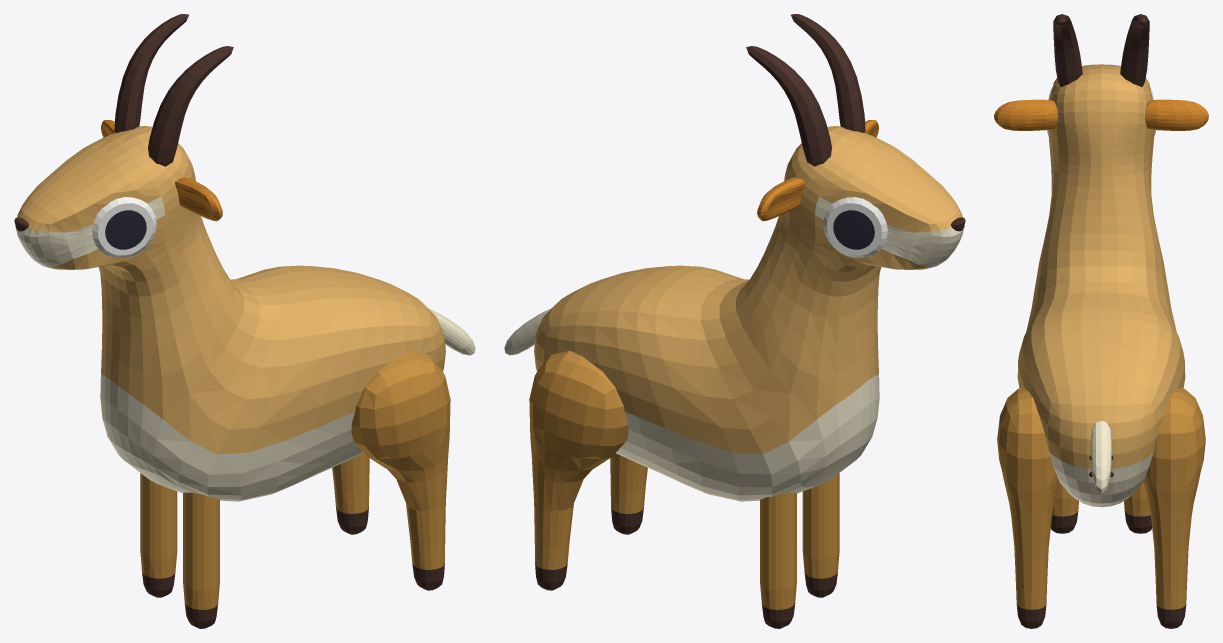
File: Gazelle_LOD0.fbx
3 views of the same model, side by side, from view 1: azimuth 30°, elevation 25°; view 2: azimuth 150°, elevation 25°; view 3: azimuth 270°, elevation 25° (orthographic). The views are drawn at different scales.
Parts seen in each view (by area): view 1: Mesh; view 2: Mesh; view 3: Mesh.
Boxes of the visible parts, x1=… form: Mesh: x1=14, y1=14, x2=475, y2=628; Mesh: x1=504, y1=14, x2=965, y2=628; Mesh: x1=994, y1=14, x2=1208, y2=628.
Bounding box in the file's own units: 249 × 299 × 110.
Materials: 1 (1 with a texture image).
